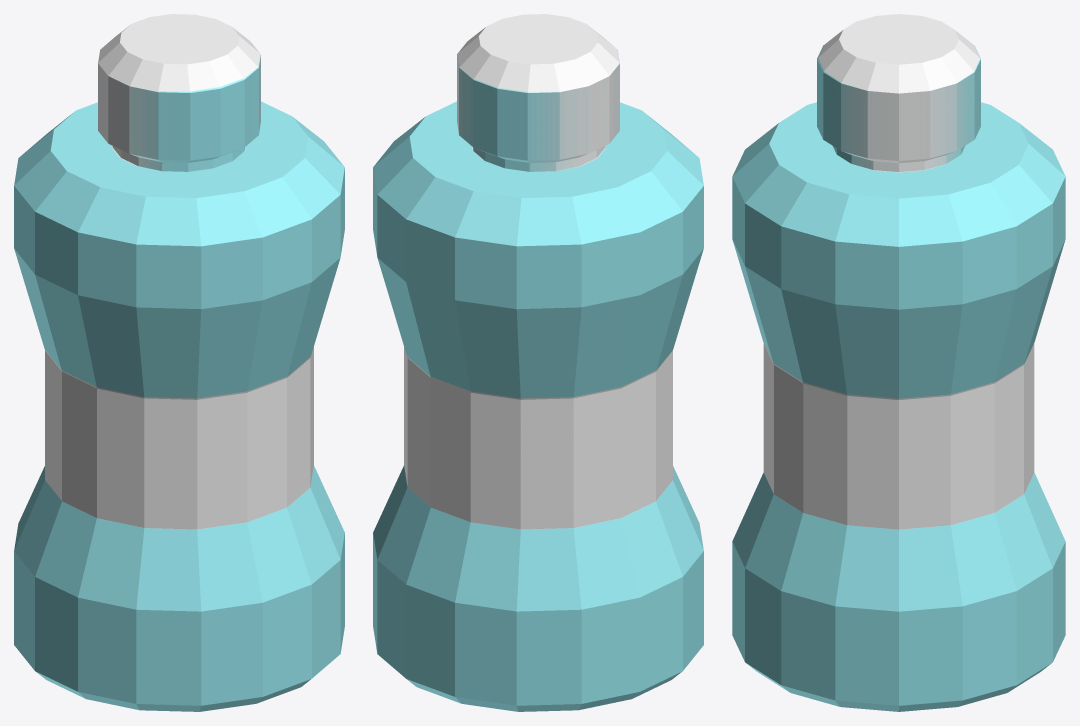
File: bottle.fbx
3 renders of one model, left to right at view 1: azimuth 30°, elevation 25°; view 2: azimuth 150°, elevation 25°; view 3: azimuth 270°, elevation 25°, orthographic.
Parts seen in each view (by area): view 1: bottle; view 2: bottle; view 3: bottle.
Part boxes in pixels (box(x1,y1,x2,y2)): bottle: box(14, 14, 344, 711); bottle: box(373, 14, 703, 711); bottle: box(732, 14, 1065, 711).
Size of the model in its own units: 12 by 24.15 by 12.
